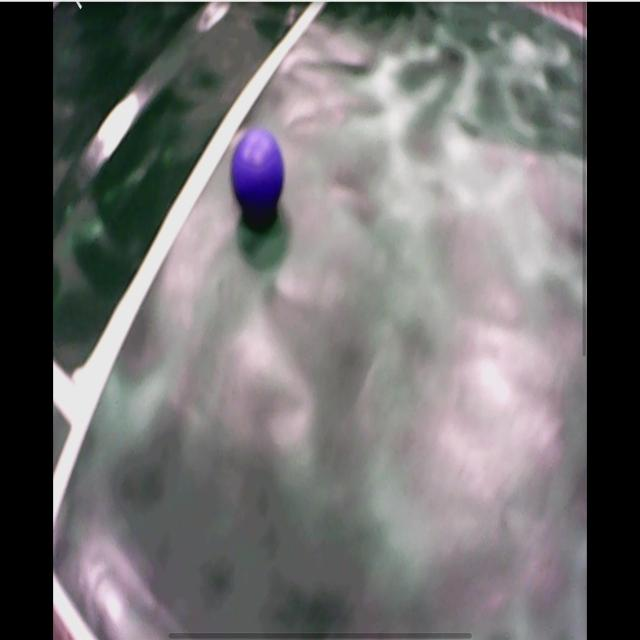ball: (232, 133, 285, 213)
